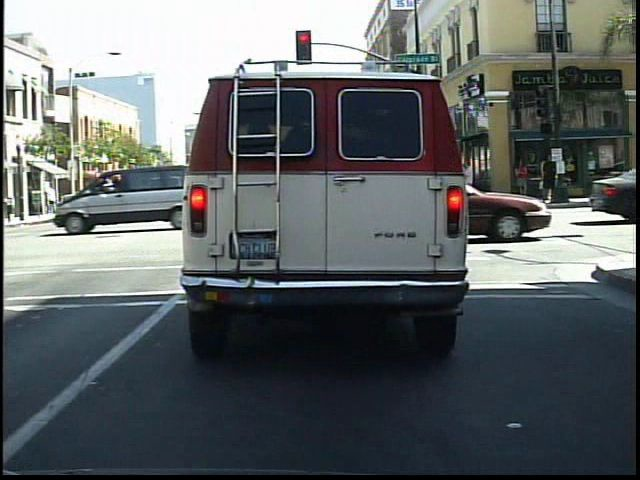person: (538, 152, 562, 208), (512, 156, 533, 204)
